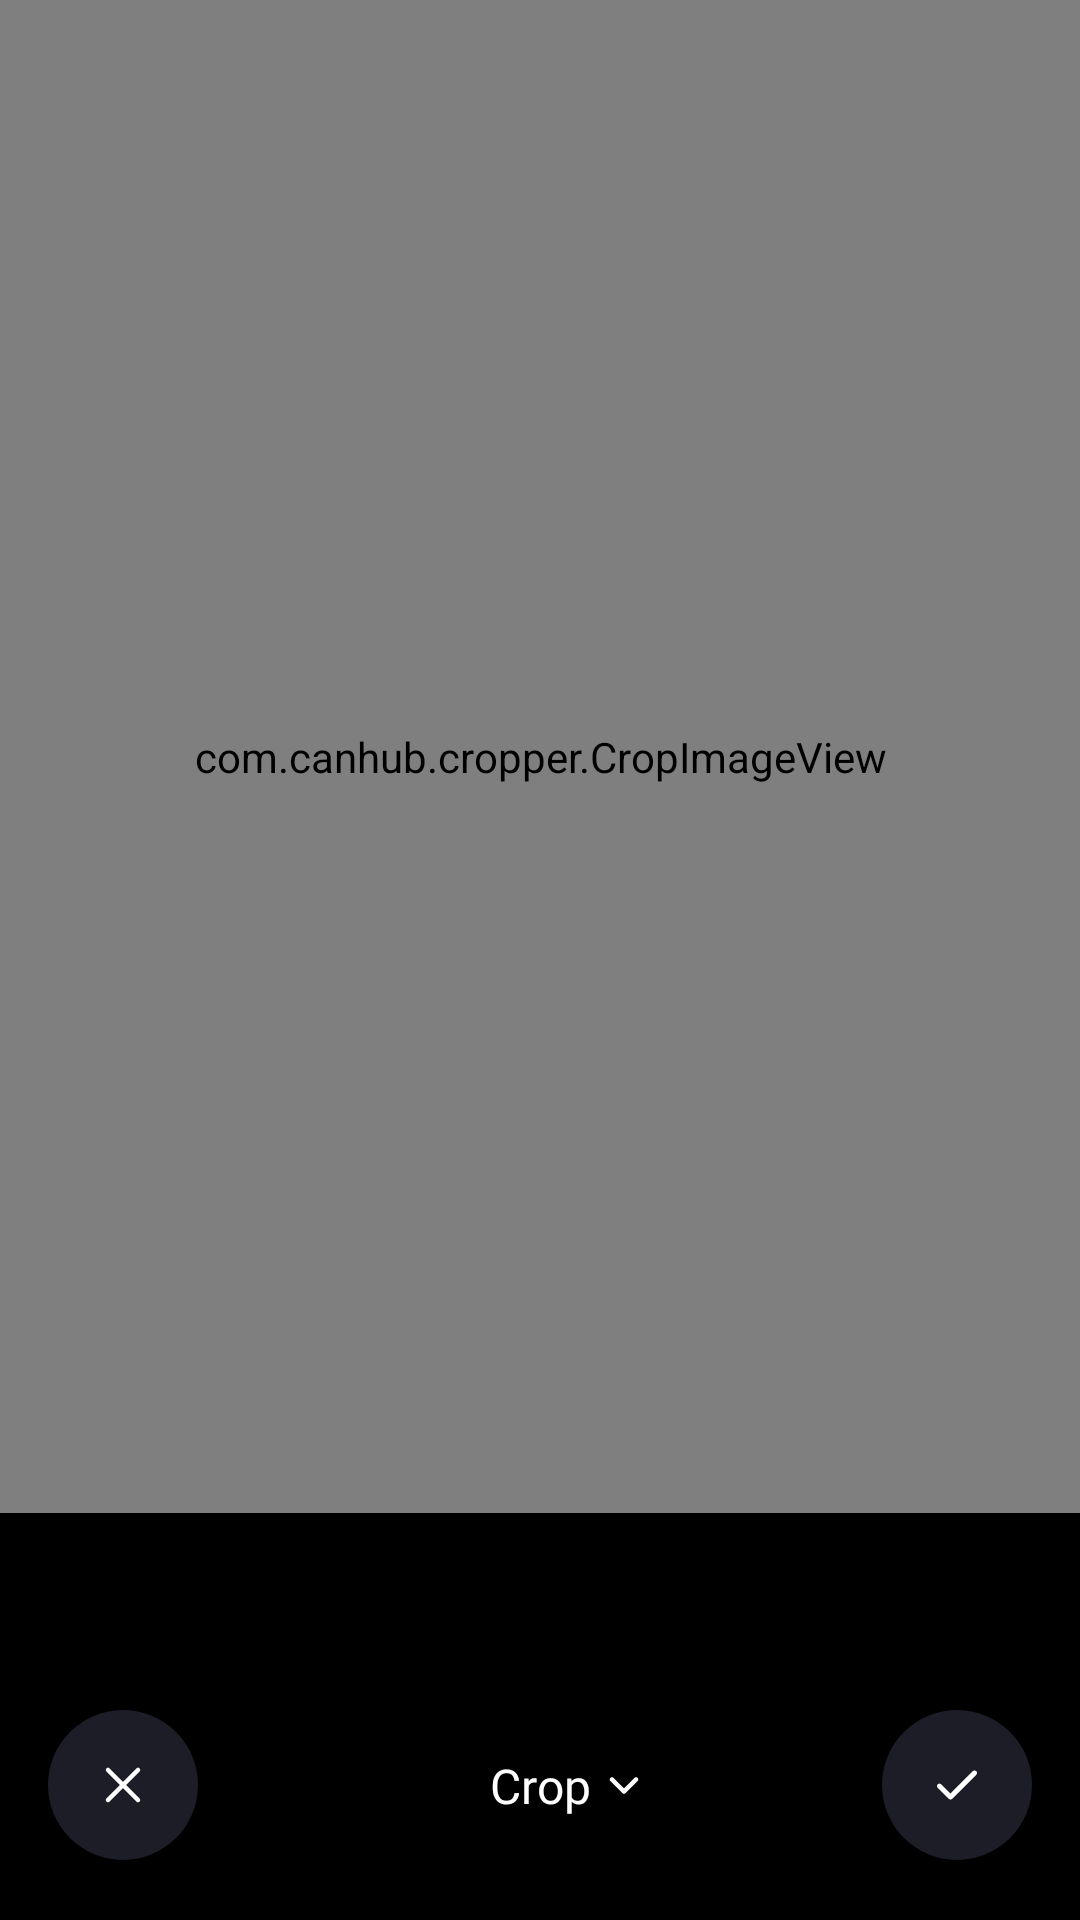

Where icons sit on this 1080*1920 app screen, as (x1, y1, x2, y2):
edit check: (882, 1710, 1032, 1860)
edit close: (48, 1710, 198, 1860)
